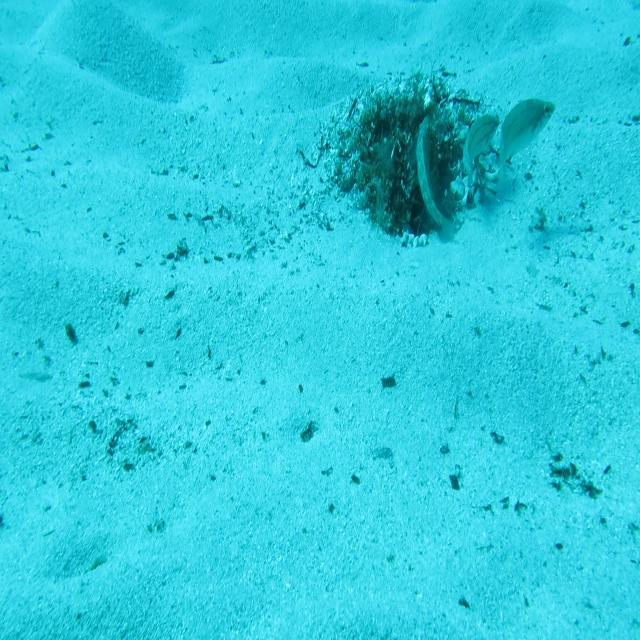FAN: (414, 115, 458, 247)
core_nest: (391, 96, 437, 140)
female: (496, 93, 557, 200), (462, 108, 499, 216)
nest: (317, 65, 502, 252)
vegetation: (298, 419, 318, 442), (379, 370, 398, 392)
